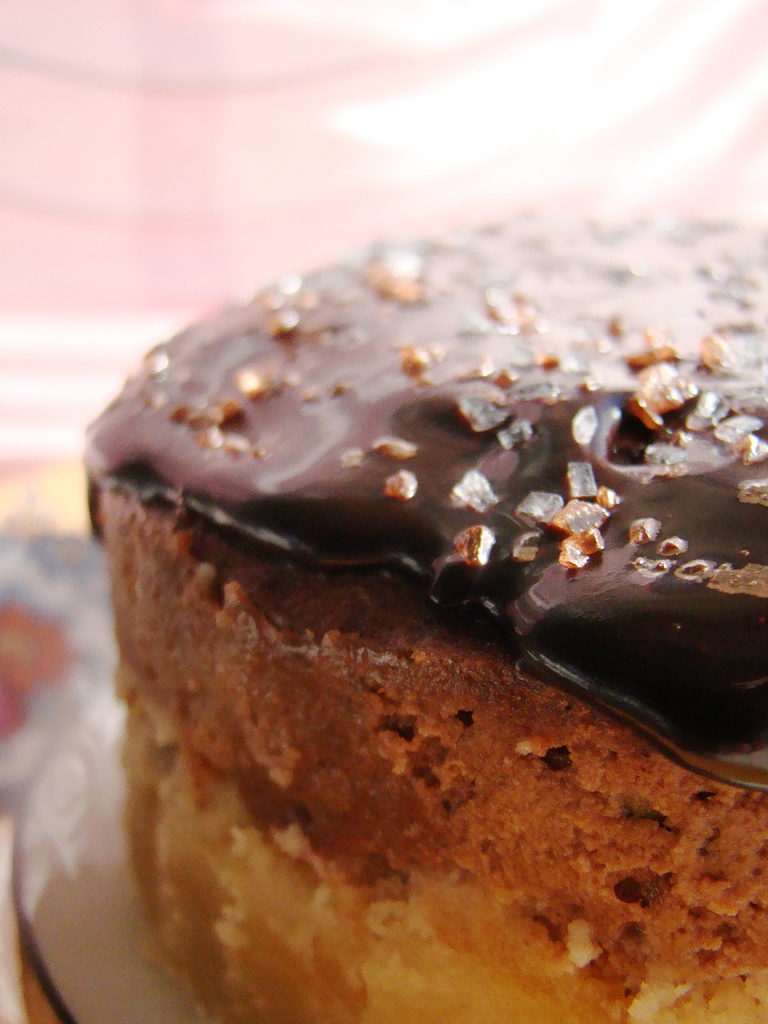cake: (77, 200, 767, 1023)
